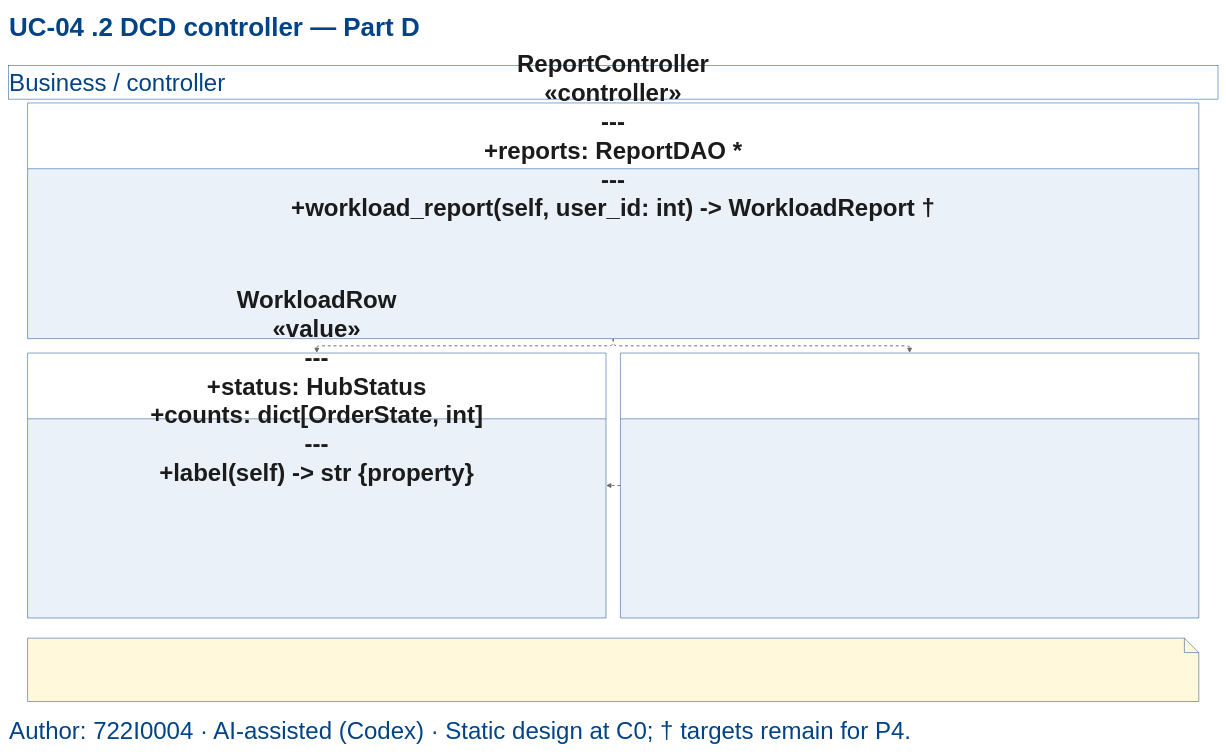
The diagram is 1226 pixels wide and 754 high, and some of its shapes have lost their labels. Each missing label, with the centre of its shape:
Part C contains authorization; workload targets retain archived hubs (P2-S18).: the point at 613,670
WorkloadReport «value» --- +as_of: str +rows: list[WorkloadRow] ---: the point at 909,485
